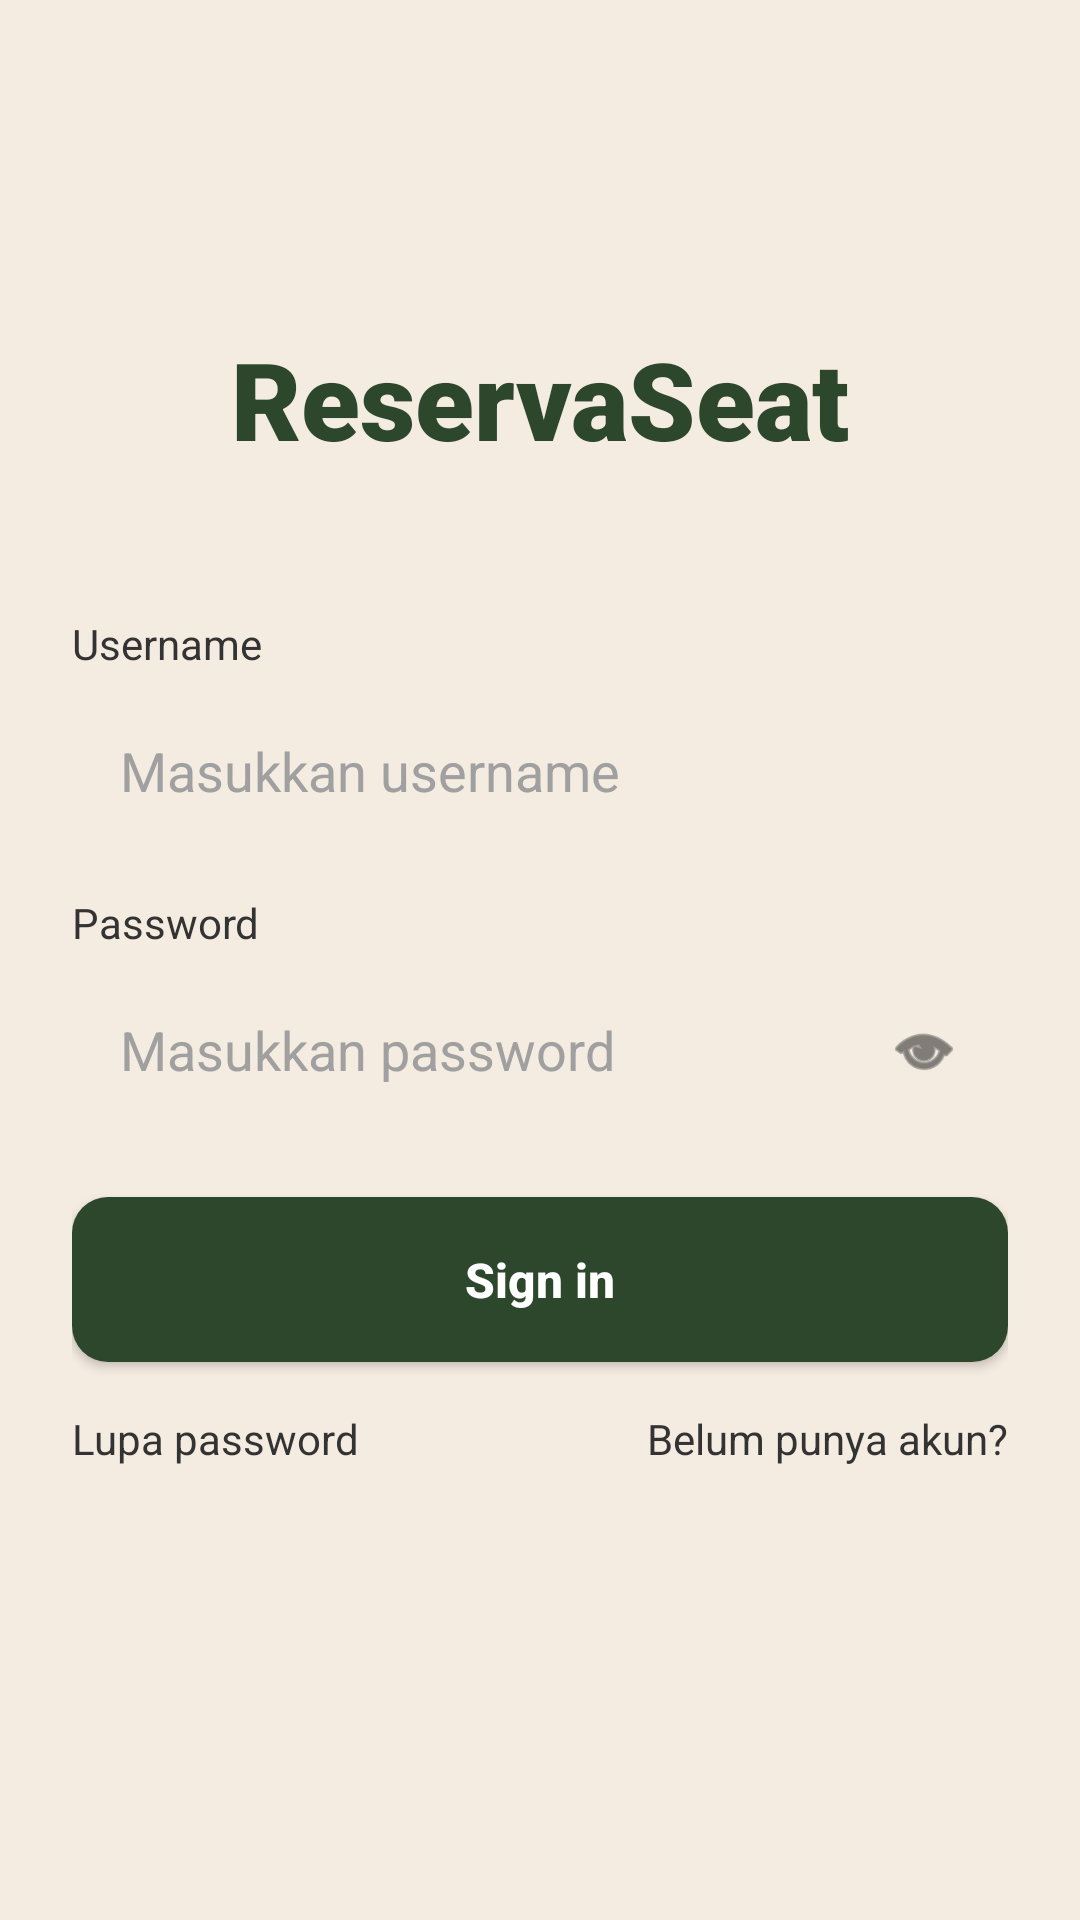

Point at icon controls on the screen. Image size 1080 × 1920, points as (x,y).
view: (924,1051)
